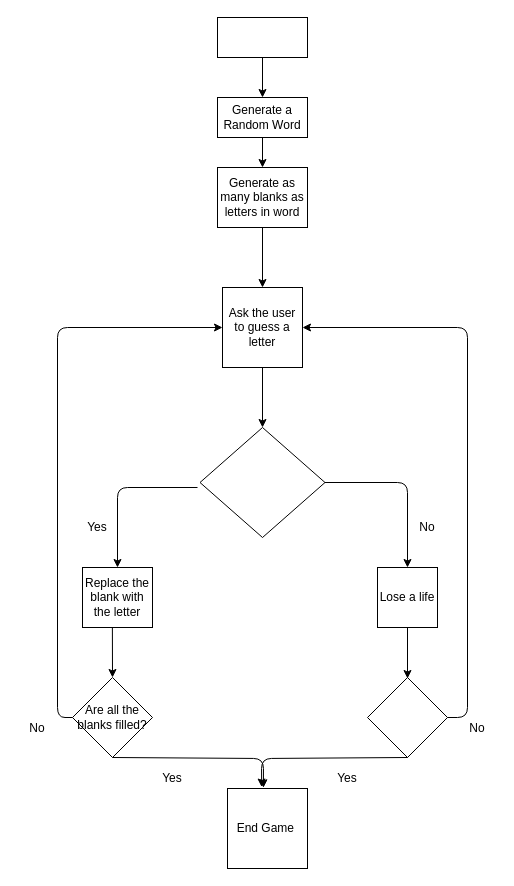
Some shapes in this 514 by 886 pixel diagram are drawn without their labels. Here are the shapes that lost their labels. From the top down, the box of each, then its label:
(216, 16, 308, 58): Start
(199, 426, 325, 538): Is the guessed letter in the word?
(366, 676, 448, 758): Have they run out of lives?
